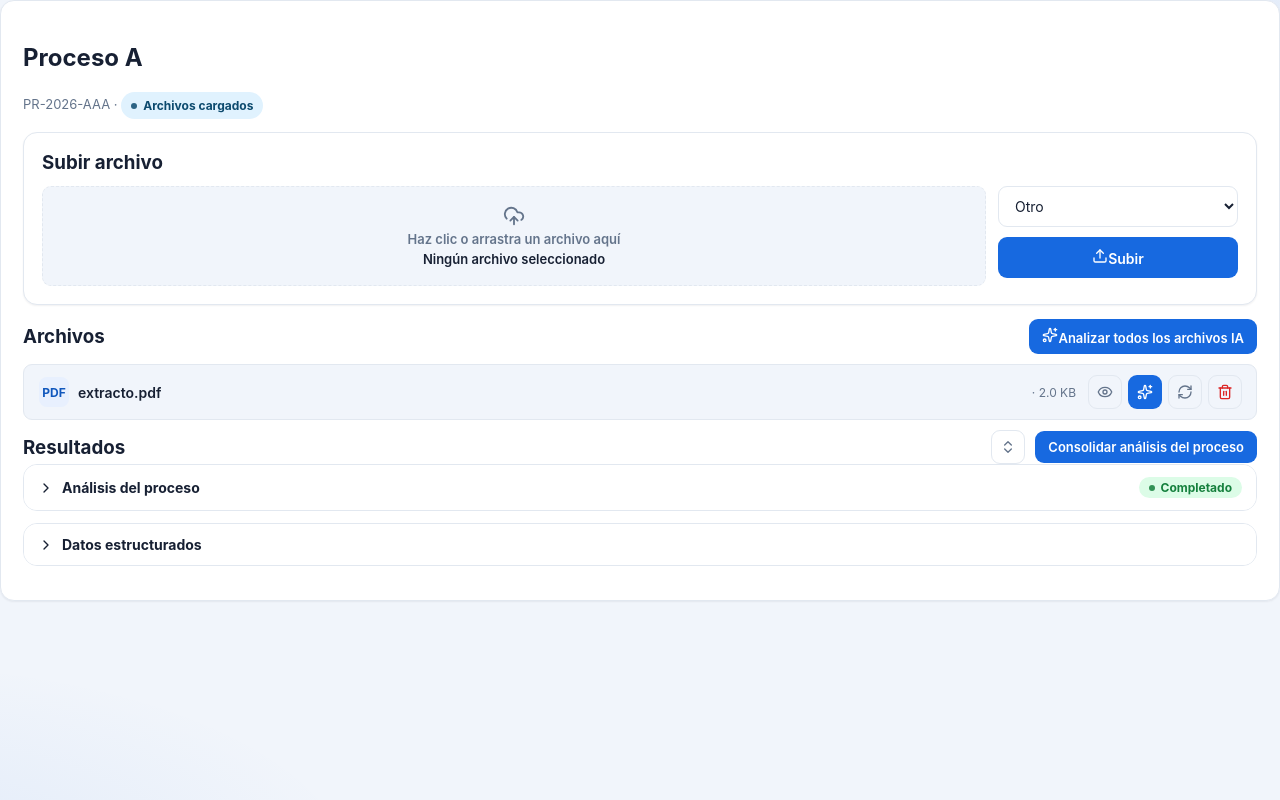
Test case: ProcessDetail › muestra resultados colapsables y la validación al expandir
This screenshot has width=1280, height=800.
Click the button with class "collapsible-head" that starts with "Análisis del proceso" at (131, 488), box [24,465,1256,510]
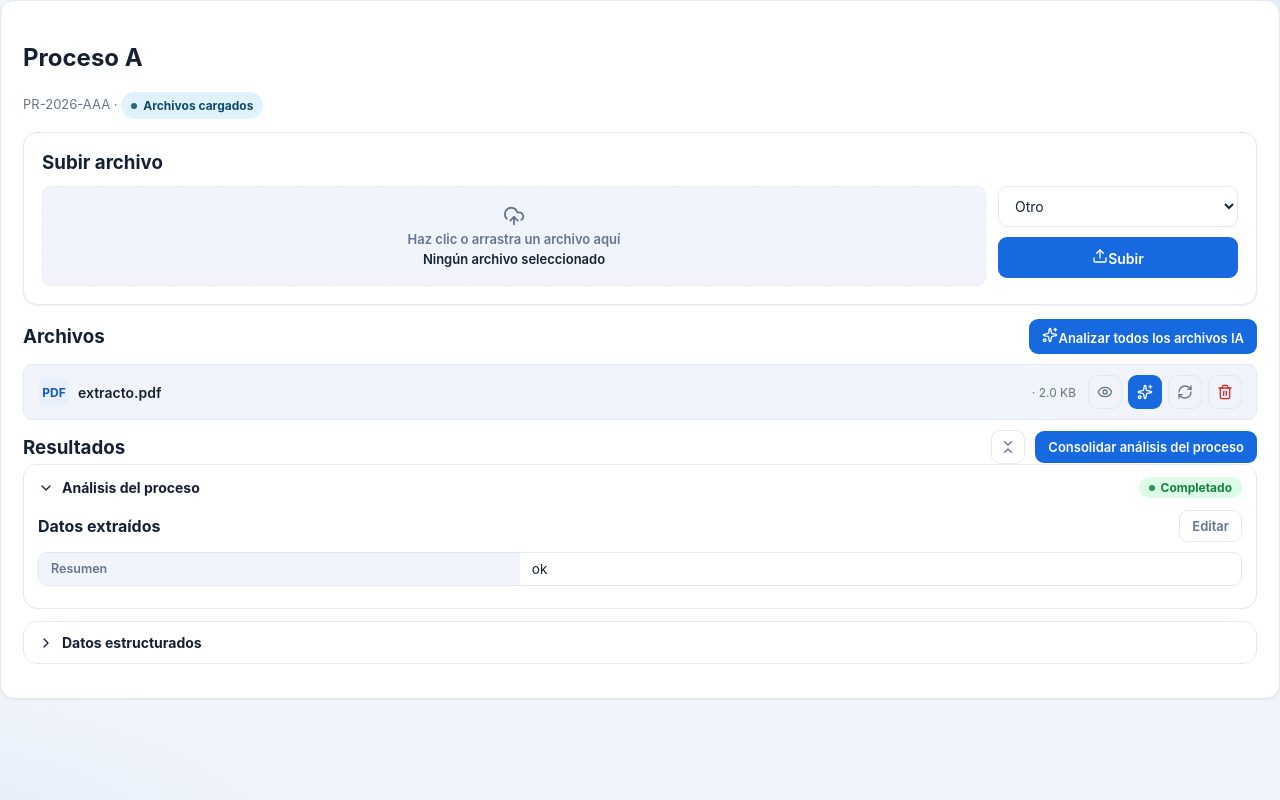
Check: the text "Resumen" is shown, box [39,553,520,585]
Check: the text "ok" is shown, box [532,561,547,577]
Check: the button "Editar" is shown, box [1179,510,1242,542]
